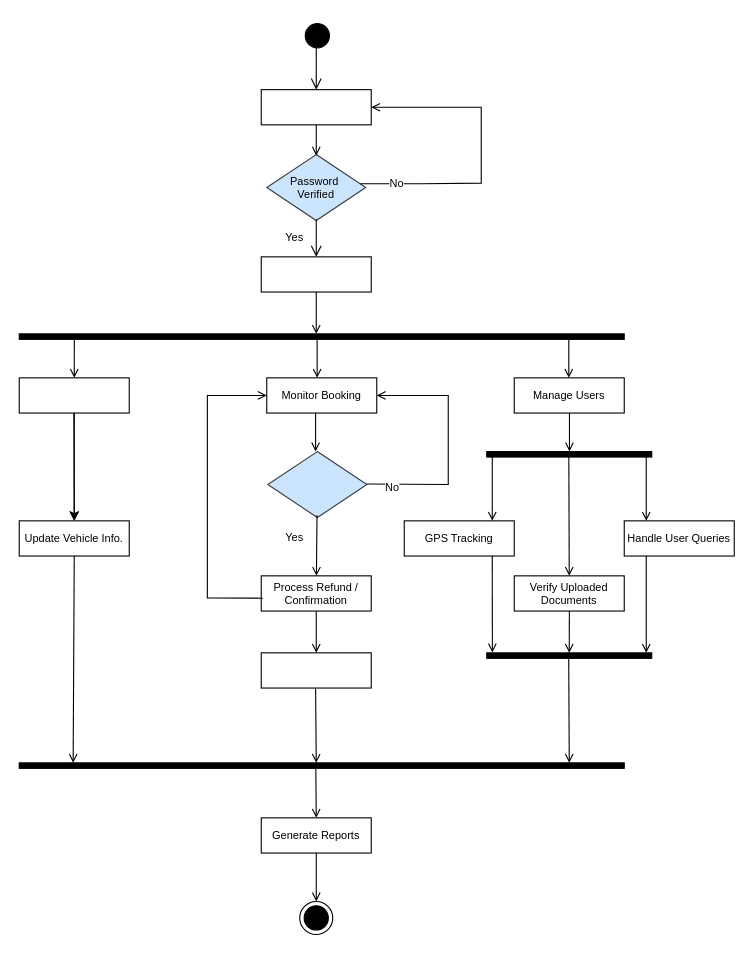
This 754x954 diagram has some shape labels left out. Here are the shapes that lost their labels. From the top down, the centre of each, then its label:
At pixel 315 107: "Admin Logs IN".
At pixel 315 274: "Access Admin Dashboard".
At pixel 73 395: "Manage Vehicles".
At pixel 317 484: "Refund / Cancellation Request".
At pixel 315 670: "Process Booking".
